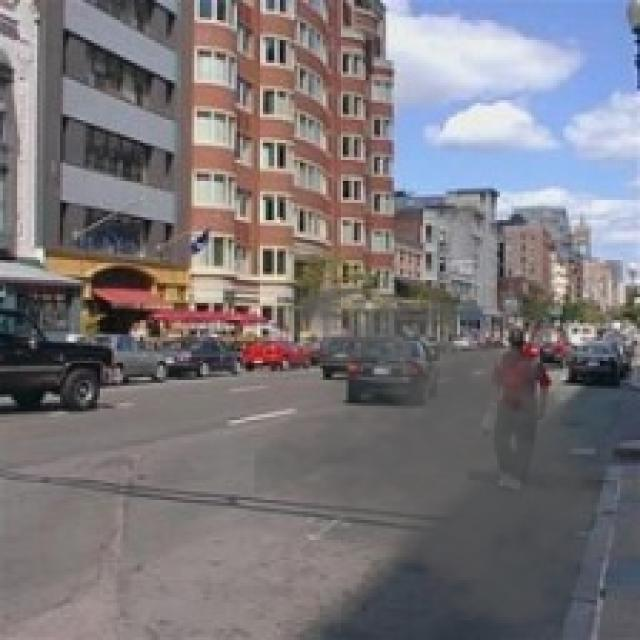Smoke: (254, 272, 629, 634)
